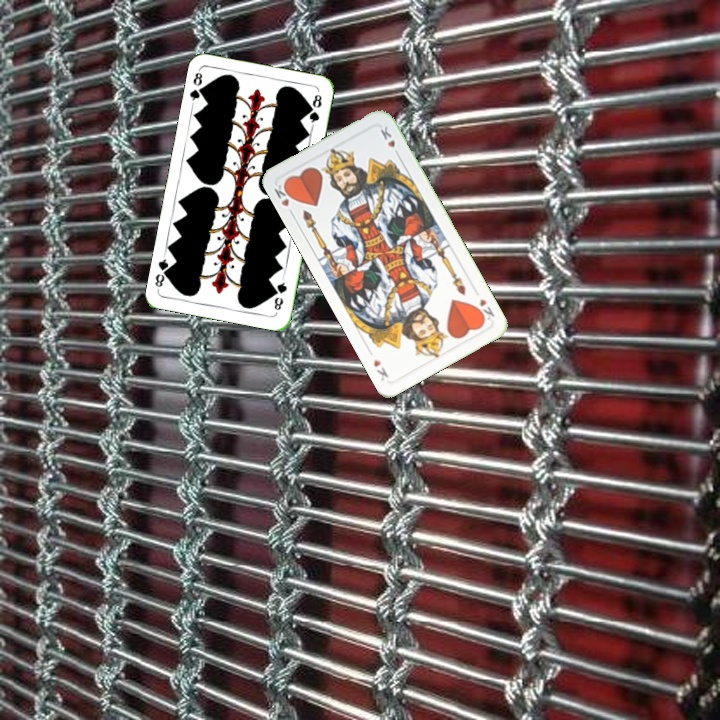G8: (186, 67, 208, 107), (270, 274, 290, 313)
HK: (270, 178, 297, 219), (472, 294, 497, 324)
